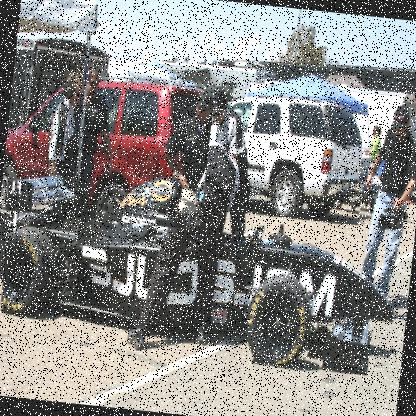Car: (0, 153, 407, 379), (0, 62, 216, 232), (219, 88, 371, 226)
